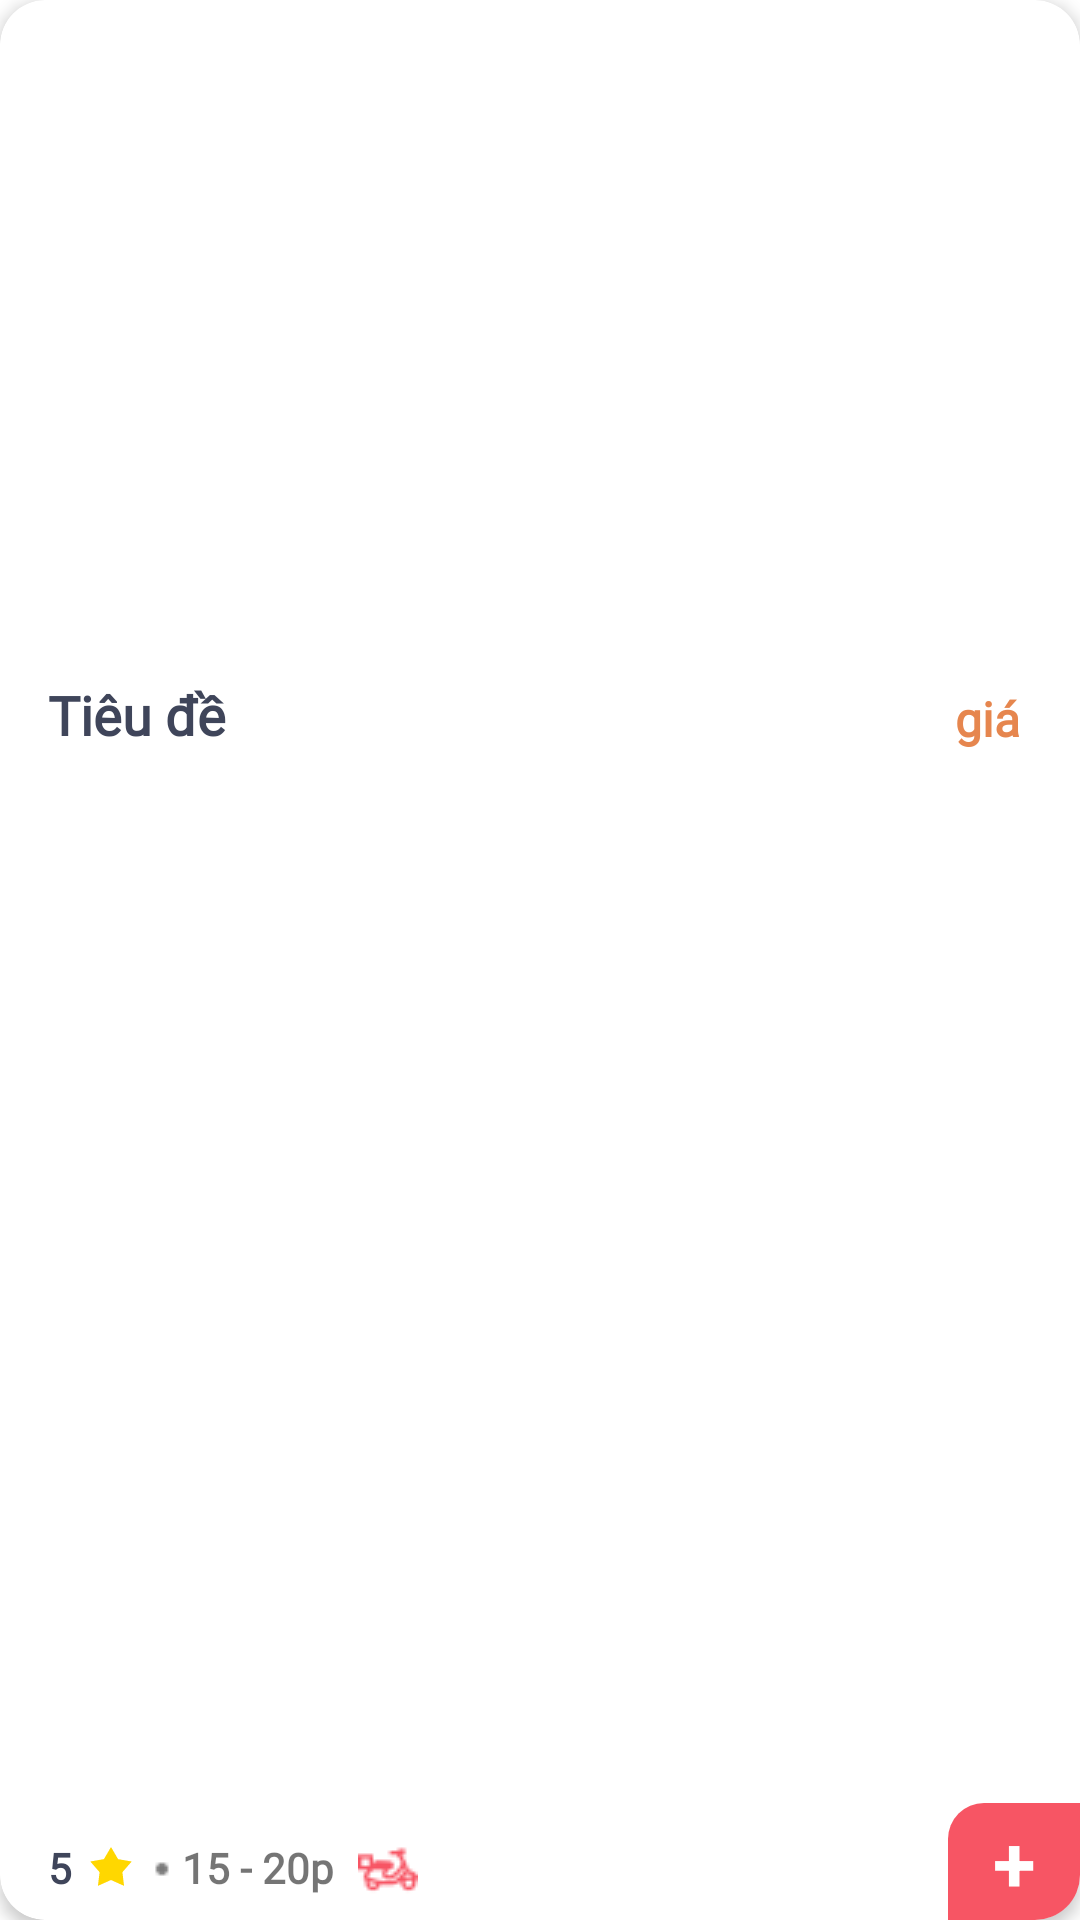

Screen size 1080 × 1920. Icon name, then its box in pixels as {"x1": x1, "y1": y1, "x2": x2, "y2": y2}:
delivery: {"x1": 358, "y1": 1847, "x2": 418, "y2": 1891}
